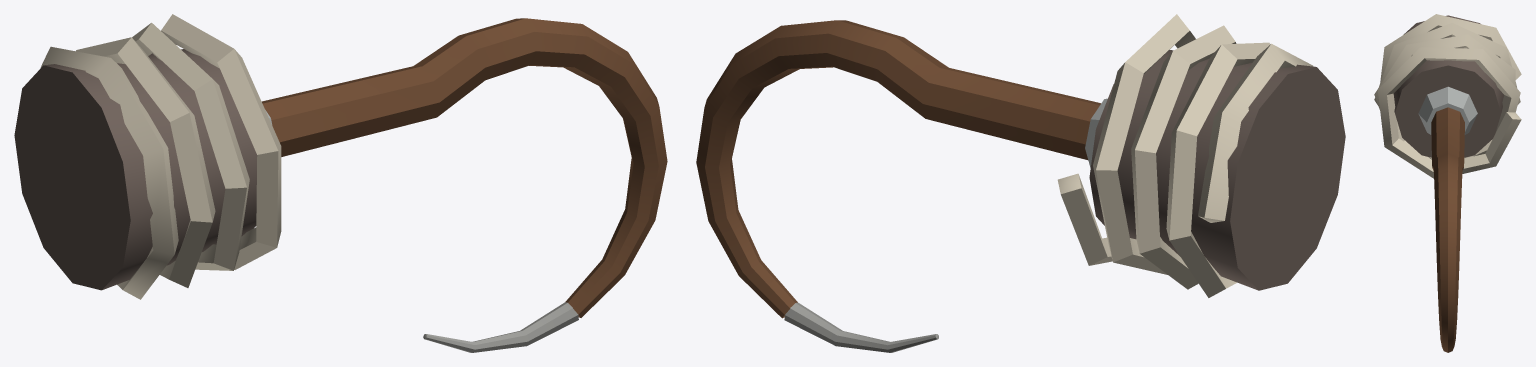
File: butcher_hand_closed.glb
3 renders of one model, left to right at view 1: azimuth 30°, elevation 25°; view 2: azimuth 150°, elevation 25°; view 3: azimuth 270°, elevation 25°, orthographic. The views are drawn at different scales.
Visible parts, largest first — view 1: butcher_hand_closed; view 2: butcher_hand_closed; view 3: butcher_hand_closed.
Boxes of the visible parts, box(x1,y1,x2,y2) form: butcher_hand_closed: box(14, 14, 667, 352); butcher_hand_closed: box(696, 14, 1345, 352); butcher_hand_closed: box(1374, 14, 1521, 352).
Bounding box in the file's own units: 0.3533 × 0.2283 × 0.1388.
